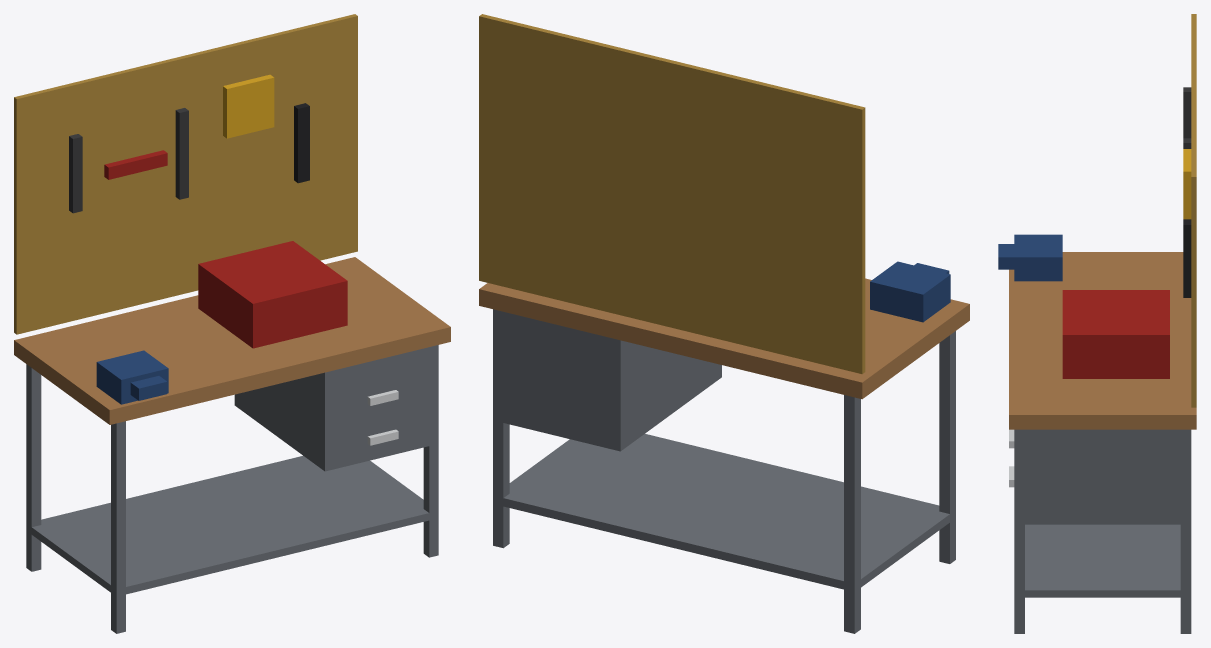
File: workbench.glb
3 views of the same model, side by side, from view 1: azimuth 30°, elevation 25°; view 2: azimuth 150°, elevation 25°; view 3: azimuth 270°, elevation 25° (orthographic). The views are drawn at different scales.
Visible parts, largest first — view 1: workbench; view 2: workbench; view 3: workbench.
Part boxes in pixels (left/top/right/bottom): workbench: left=14, top=14, right=450, bottom=633; workbench: left=479, top=14, right=969, bottom=633; workbench: left=998, top=14, right=1196, bottom=633.
Size of the model in its own units: 1.44 by 1.9 by 0.74.
Materials: 1 (1 with a texture image).
